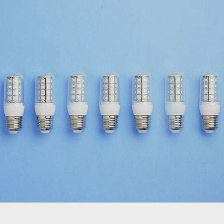light_bulb: (31, 69, 59, 136), (63, 69, 91, 135), (0, 70, 28, 134), (196, 68, 223, 134), (162, 69, 188, 136), (128, 70, 154, 134), (97, 69, 121, 135)
